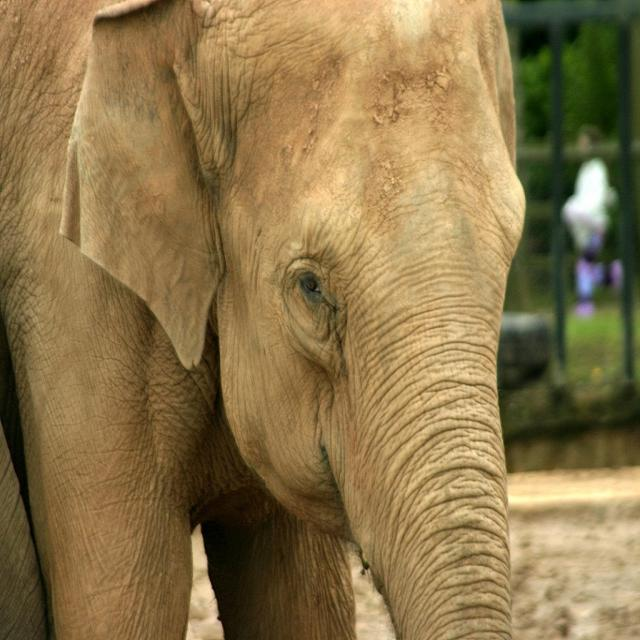elephant: (0, 1, 530, 638)
